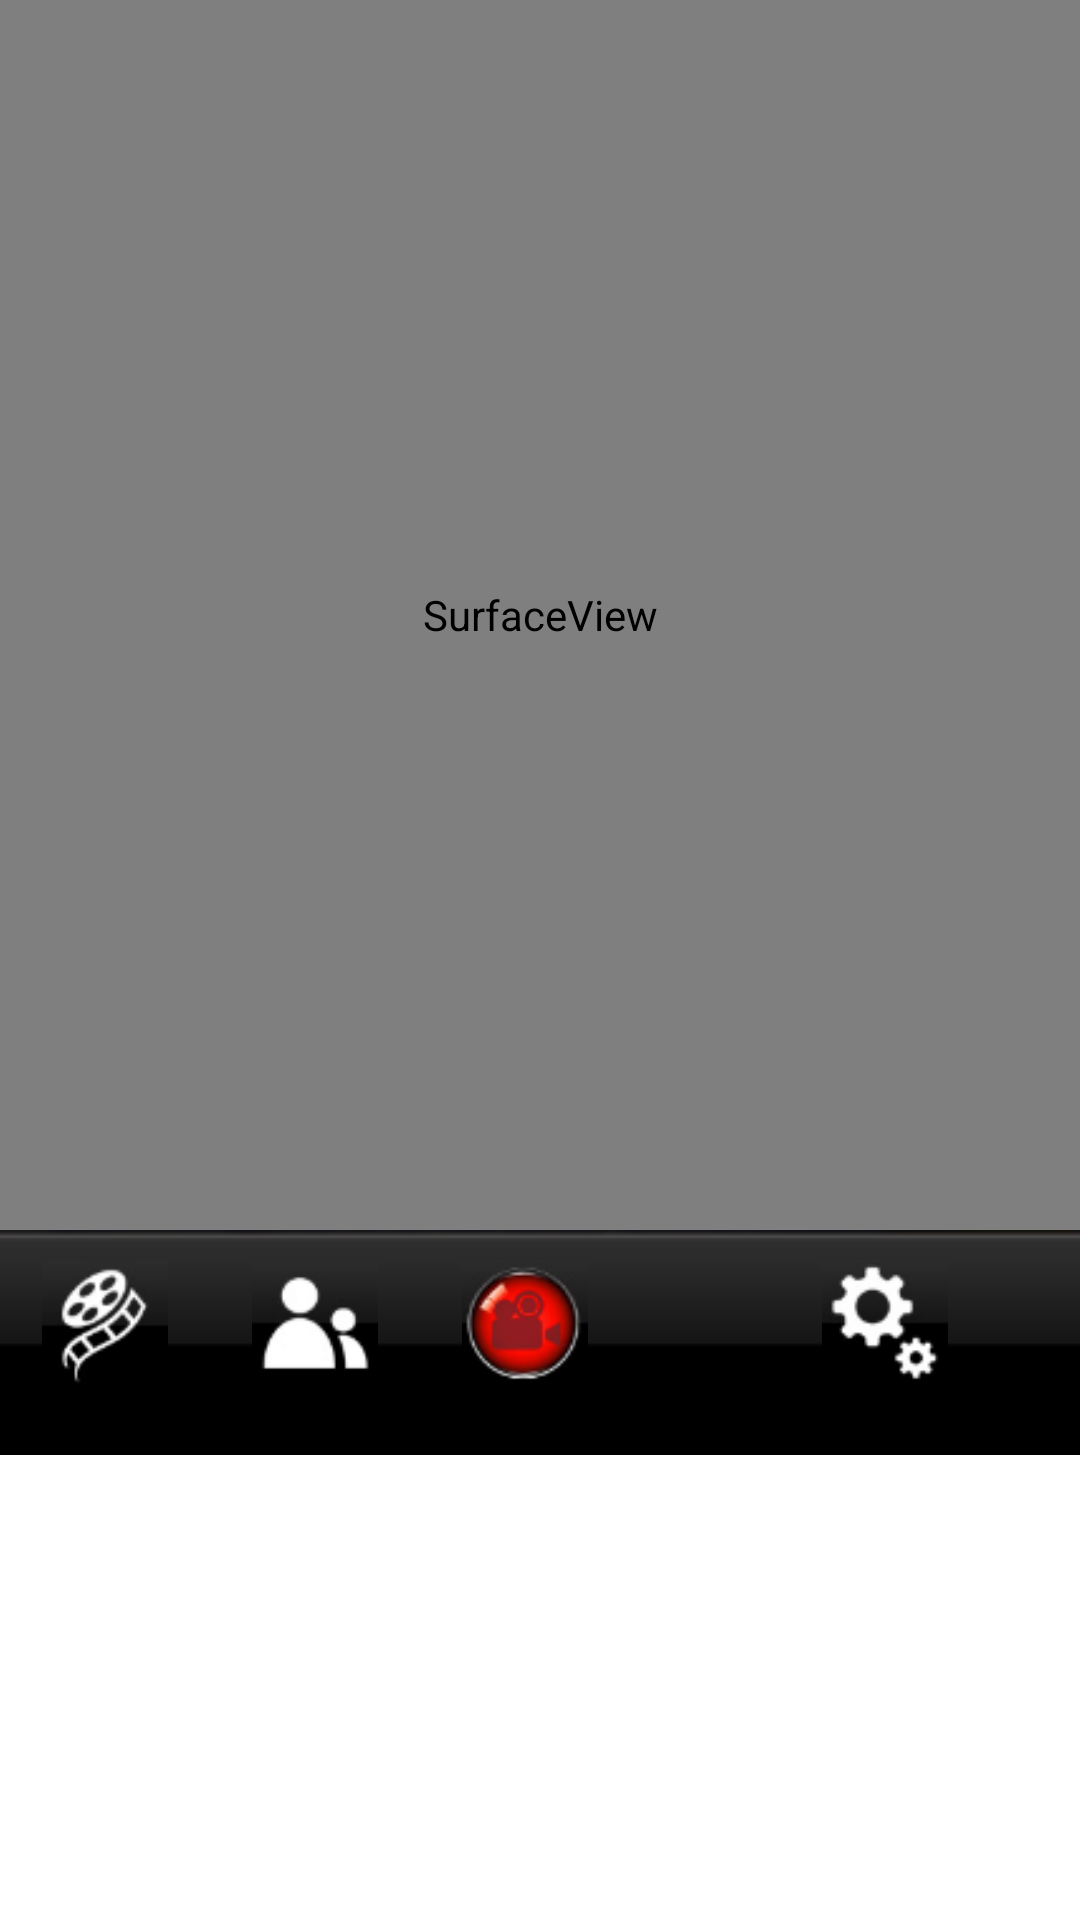

Icon click points for this 1080px×1920px phone screenshot, format (x,y):
friends: (315,1323)
record: (525,1323)
settings: (885,1323)
